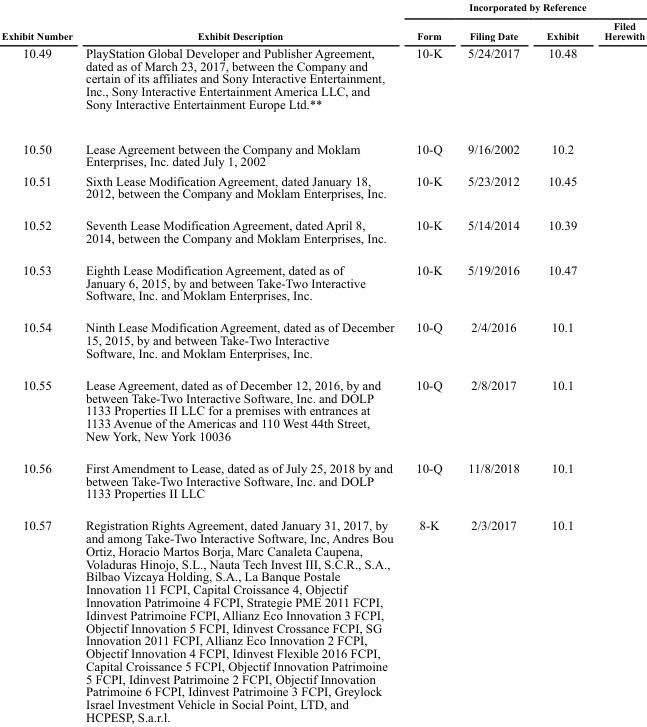table: (0, 1, 644, 723)
table column: (78, 1, 404, 723), (0, 1, 78, 723), (454, 1, 532, 723), (532, 1, 590, 723), (590, 1, 644, 723), (404, 1, 454, 723)
table column header: (0, 1, 644, 43)
table row: (0, 509, 644, 723), (0, 368, 644, 451), (0, 43, 644, 125), (0, 253, 644, 311), (0, 451, 644, 509), (0, 311, 644, 368), (0, 125, 644, 170), (0, 208, 644, 253), (0, 170, 644, 208), (0, 16, 644, 43), (0, 1, 644, 16)
table spanning cell: (78, 1, 404, 43), (404, 1, 644, 16), (0, 1, 78, 43)
